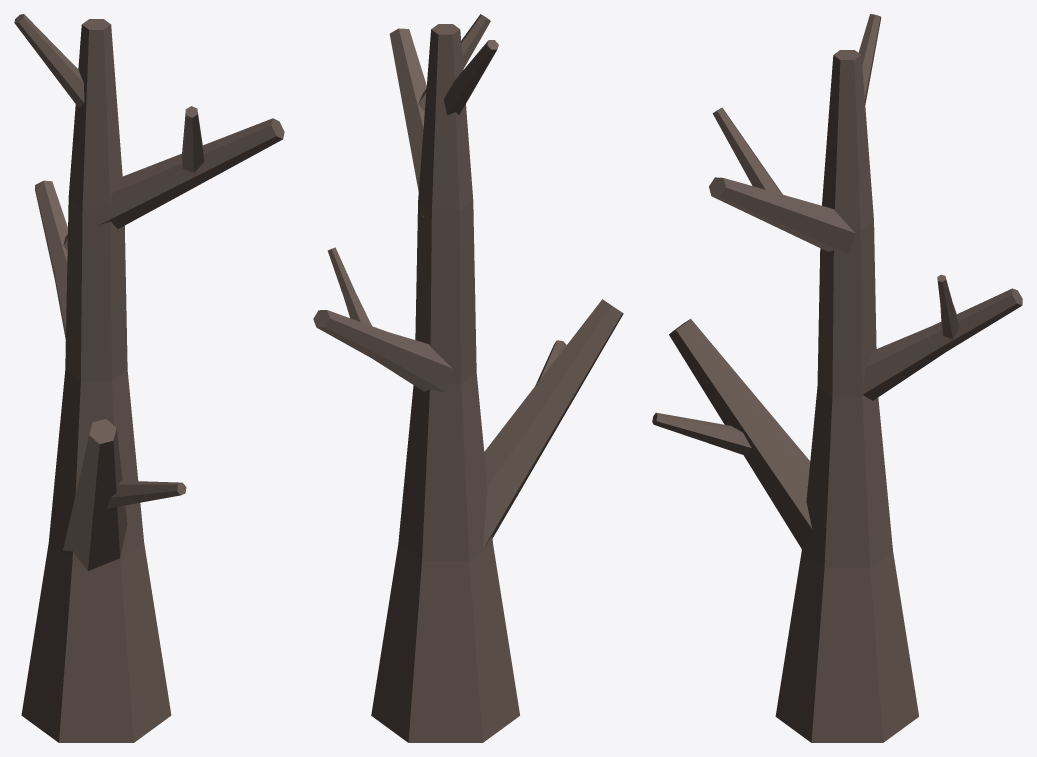
3 renders of one model, left to right at view 1: azimuth 30°, elevation 25°; view 2: azimuth 150°, elevation 25°; view 3: azimuth 270°, elevation 25°, orthographic. The views are drawn at different scales.
Visible parts, largest first — view 1: Cylinder.007; view 2: Cylinder.007; view 3: Cylinder.007.
Part boxes in pixels (<box>): Cylinder.007: <box>14,14,284,742</box>; Cylinder.007: <box>313,14,623,742</box>; Cylinder.007: <box>652,14,1022,742</box>.
Bounding box in the file's own units: 1.54 × 4.83 × 2.4.
